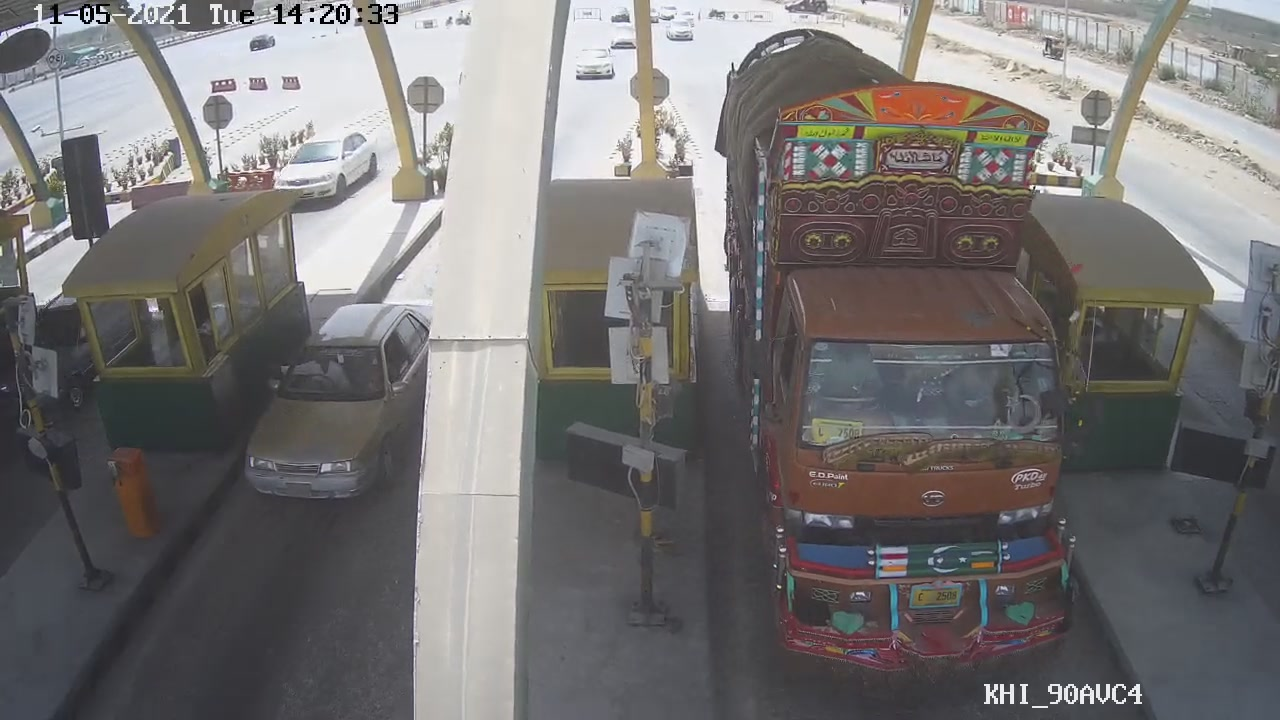F5: (714, 29, 1064, 710)
